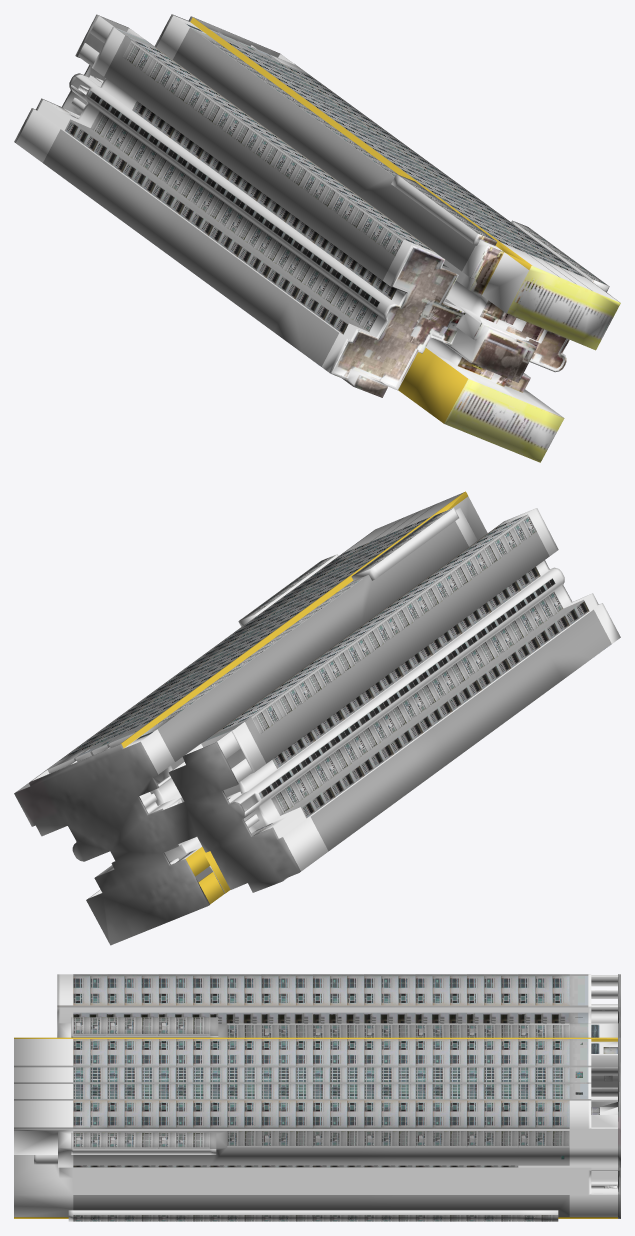
File: amk_blk308b_building.obj
3 renders of one model, top to bottom at view 1: azimuth 30°, elevation 25°; view 2: azimuth 150°, elevation 25°; view 3: azimuth 270°, elevation 25°, orthographic. The views are drawn at different scales.
Parts seen in each view (by area): view 1: polygon.773; view 2: polygon.773; view 3: polygon.773.
Boxes of the visible parts, x1,y1,x2,y2 form: polygon.773: [14, 14, 620, 462]; polygon.773: [14, 491, 620, 945]; polygon.773: [14, 974, 620, 1221].
Bounding box in the file's own units: 48.83 × 36.44 × 100.
Materials: 1 (1 with a texture image).
